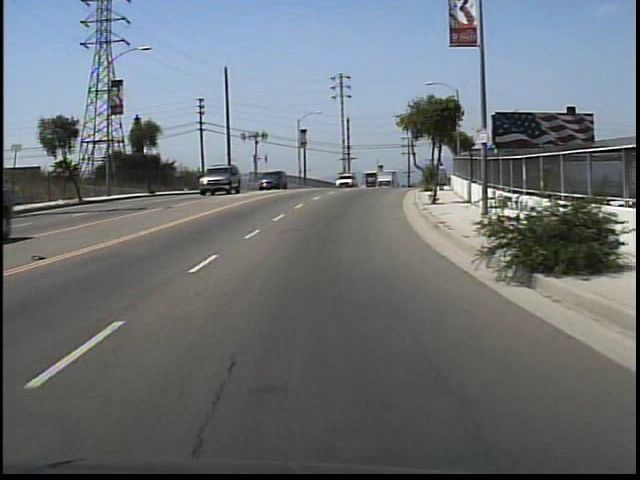person: (438, 161, 449, 193)
